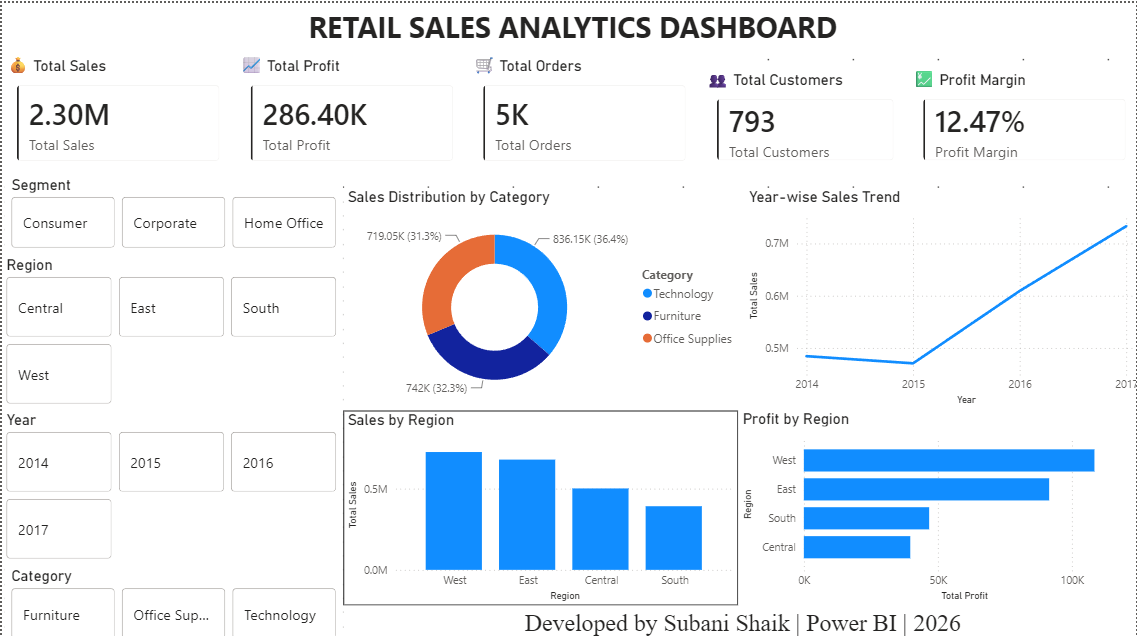

The dashboard page shown, as its layout file describes it:
{"tool":"powerbi","page":{"name":"Sales Overview Dashboard","canvas":[1280,720],"ordinal":0},"visuals":[{"type":"textbox","box":[0,0,1280.2,55.7],"z":0},{"type":"cardVisual","title":"💰 Total Sales","fields":{"Data":["Superstore.Total Sales"]},"box":[0,55.7,261.7,138.6],"z":1000},{"type":"lineChart","title":"Year-wise Sales Trend","fields":{"Category":["Superstore.Year"],"Y":["Superstore.Total Sales"]},"box":[832.6,207.3,446.5,248.7],"z":2000},{"type":"clusteredColumnChart","title":"Sales by Region","fields":{"Category":["Superstore.Region"],"Y":["Superstore.Total Sales"]},"box":[382.8,457.1,443.1,218.8],"z":3000},{"type":"donutChart","title":"Sales Distribution by Category","fields":{"Category":["Superstore.Category"],"Y":["Superstore.Total Sales"]},"box":[382.5,207.3,450,248.7],"z":4000},{"type":"advancedSlicerVisual","fields":{"Values":["Superstore.Region"]},"box":[0,283.6,382.5,172.9],"z":5000},{"type":"advancedSlicerVisual","fields":{"Values":["Superstore.Year"]},"box":[0,456.6,382.5,172.9],"z":6000},{"type":"advancedSlicerVisual","fields":{"Values":["Superstore.Category"]},"box":[5.9,633,376.6,86.5],"z":7000},{"type":"advancedSlicerVisual","fields":{"Values":["Superstore.Segment"]},"box":[5.9,193.6,376.6,86.5],"z":8000},{"type":"barChart","title":"Profit by Region","fields":{"Category":["Superstore.Region"],"Y":["Superstore.Total Profit"]},"box":[825.5,456,453.6,220.3],"z":9000},{"type":"cardVisual","title":"📈 Total Profit","fields":{"Data":["Superstore.Total Profit"]},"box":[261.7,55.7,261.7,138.6],"z":10000},{"type":"cardVisual","title":"🛒 Total Orders","fields":{"Data":["Superstore.Total Orders"]},"box":[523.5,55.7,261.7,138.6],"z":11000},{"type":"cardVisual","title":"👥 Total Customers","fields":{"Data":["Superstore.Total Customers"]},"box":[785.2,71.1,232.1,123.2],"z":12000},{"type":"cardVisual","title":"💹 Profit Margin","fields":{"Data":["Superstore.Profit Margin"]},"box":[1017.3,71.1,261.7,123.2],"z":13000},{"type":"textbox","box":[382.5,676.2,896.5,43.8],"z":14000}]}

Visuals, with their boxes in screenshot pixels (x1, y1, x2, y2), scaled from the page's 1280x720 canvas onto the 1137x636 screenshot:
textbox: [0, 0, 1136, 49]
"💰 Total Sales" cardVisual: [0, 49, 232, 172]
"Year-wise Sales Trend" lineChart: [740, 183, 1136, 403]
"Sales by Region" clusteredColumnChart: [340, 404, 734, 597]
"Sales Distribution by Category" donutChart: [340, 183, 739, 403]
advancedSlicerVisual - Superstore.Region: [0, 251, 340, 403]
advancedSlicerVisual - Superstore.Year: [0, 403, 340, 556]
advancedSlicerVisual - Superstore.Category: [5, 559, 340, 635]
advancedSlicerVisual - Superstore.Segment: [5, 171, 340, 247]
"Profit by Region" barChart: [733, 403, 1136, 597]
"📈 Total Profit" cardVisual: [232, 49, 465, 172]
"🛒 Total Orders" cardVisual: [465, 49, 697, 172]
"👥 Total Customers" cardVisual: [697, 63, 904, 172]
"💹 Profit Margin" cardVisual: [904, 63, 1136, 172]
textbox: [340, 597, 1136, 635]
